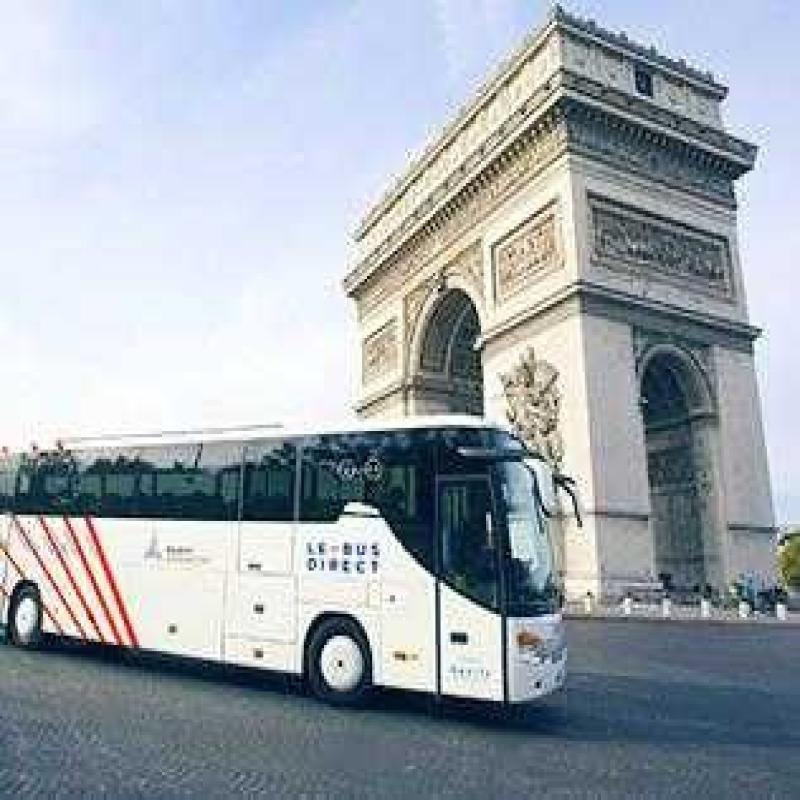bus: (16, 409, 554, 731)
